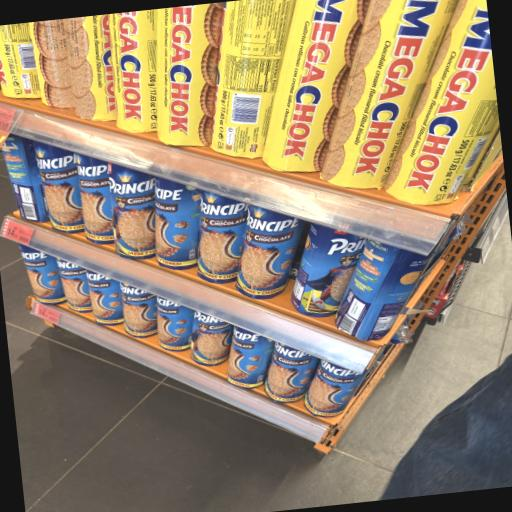prince: (302, 326, 408, 452)
